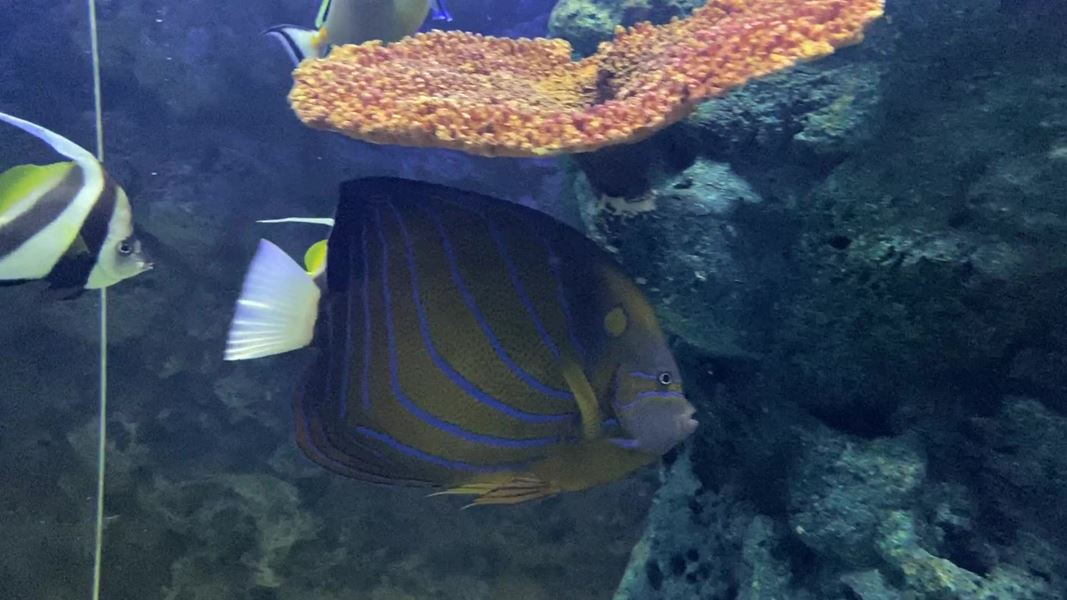Blue ring angelfish: (193, 164, 700, 528)
